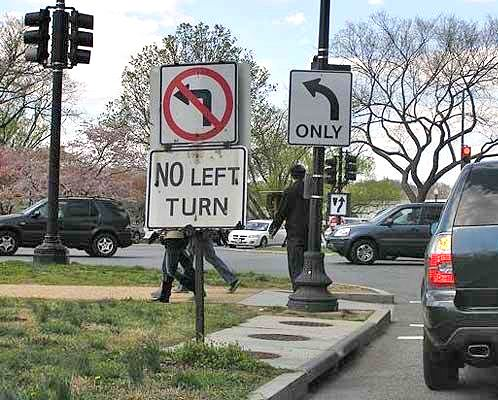No_left_turn: (163, 67, 232, 139)
